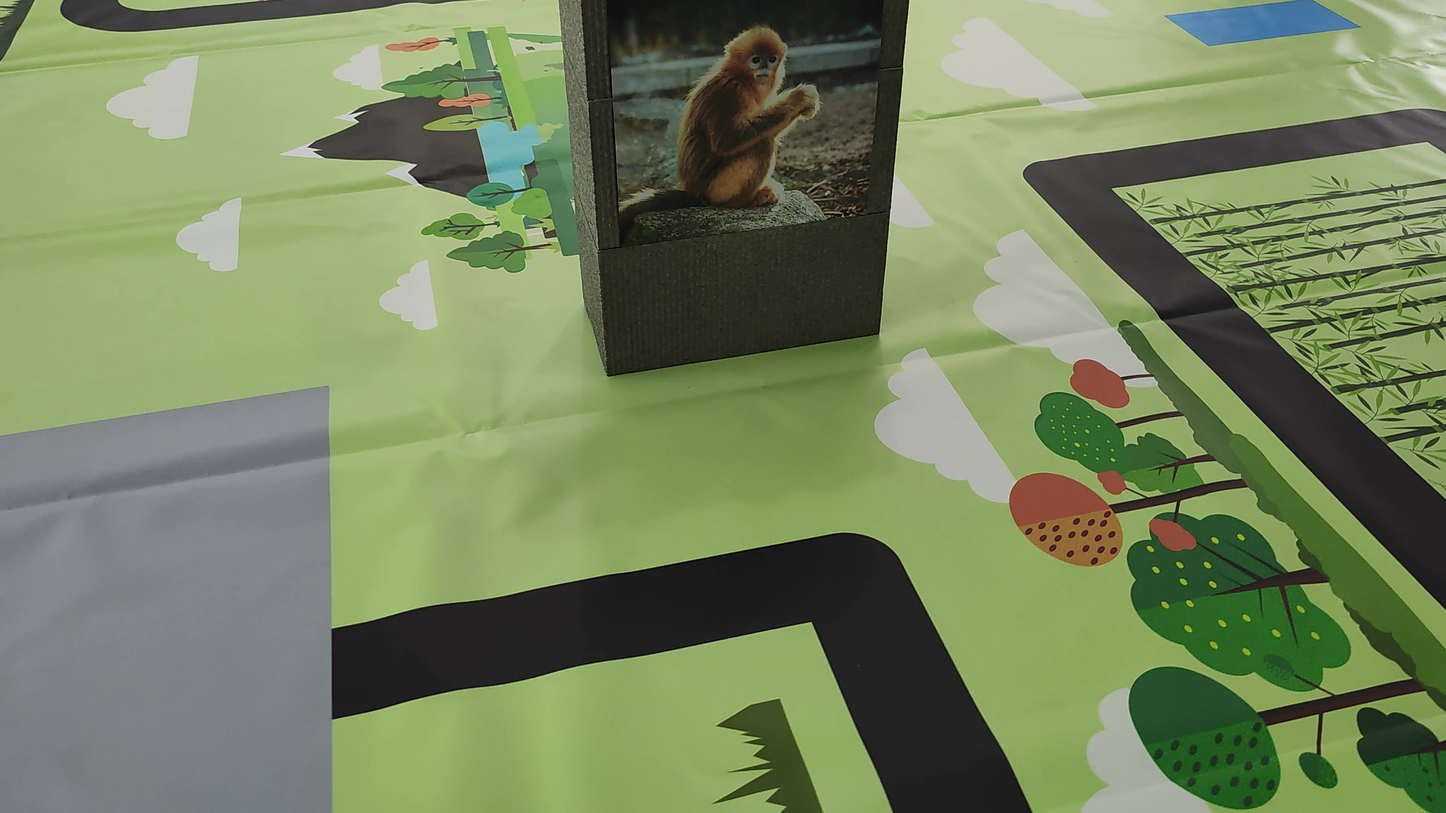monkey: (619, 15, 847, 230)
